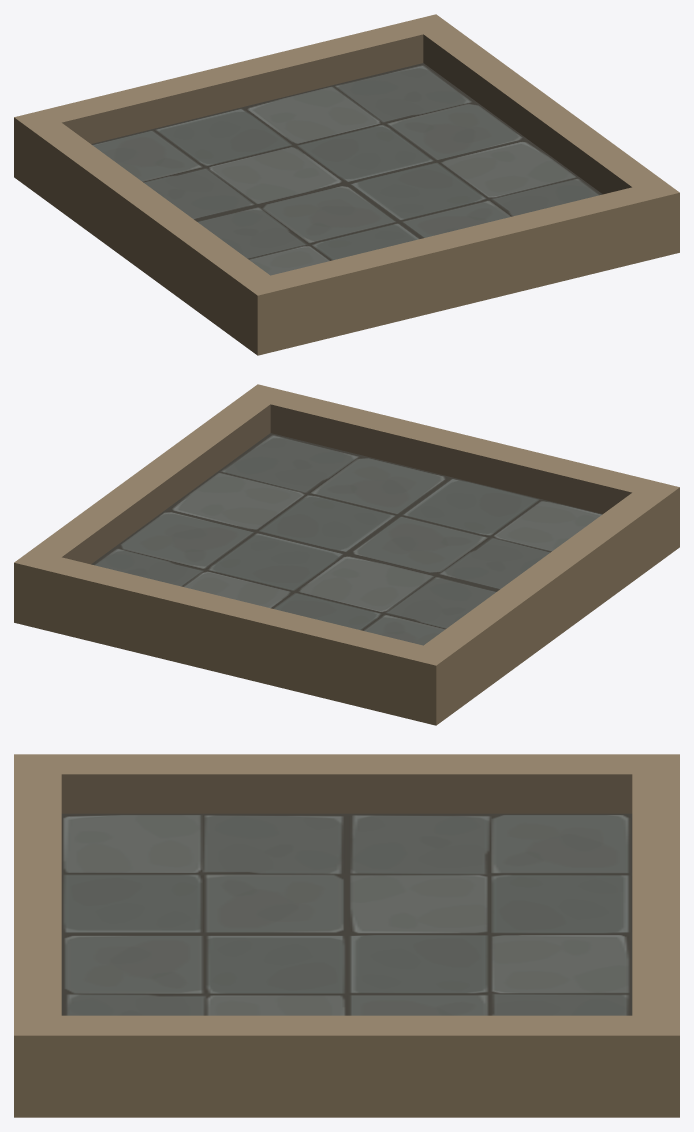
The model's file is RoofTop_B02.fbx.
The picture shows the model from 3 angles, top to bottom: view 1: azimuth 30°, elevation 25°; view 2: azimuth 150°, elevation 25°; view 3: azimuth 270°, elevation 25°; orthographic projection. The views are drawn at different scales.
Visible parts, largest first — view 1: RoofTop_B02; view 2: RoofTop_B02; view 3: RoofTop_B02.
Boxes of the visible parts, left/top/right/bottom form: RoofTop_B02: left=14, top=14, right=679, bottom=355; RoofTop_B02: left=14, top=384, right=679, bottom=725; RoofTop_B02: left=14, top=754, right=679, bottom=1117.
Size of the model in its own units: 607 by 82.56 by 607.
